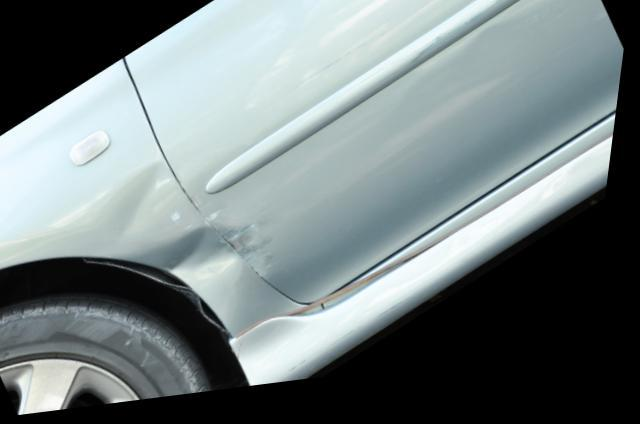dent: (404, 38, 534, 143), (138, 233, 249, 288), (112, 169, 179, 241), (218, 231, 278, 284)
